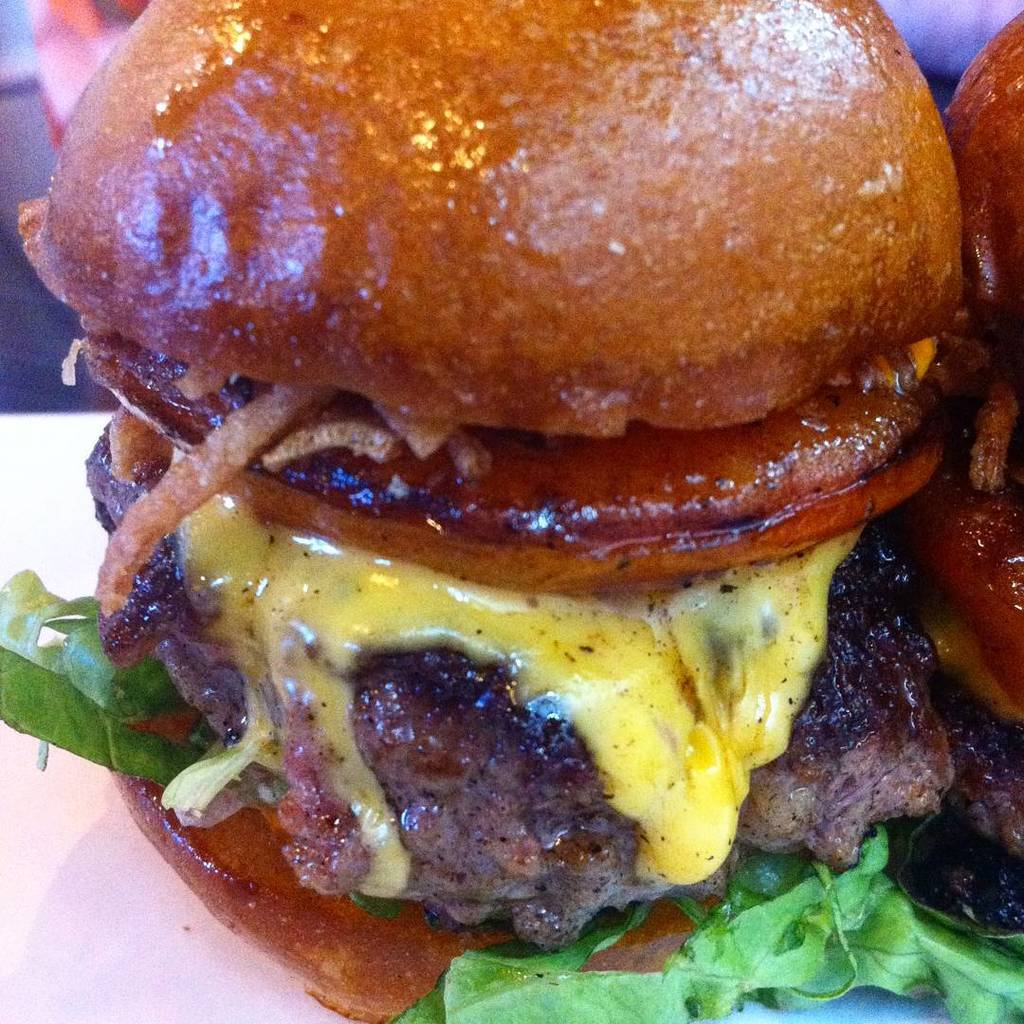Hamburger: (0, 0, 1023, 1023), (877, 14, 1023, 933)
